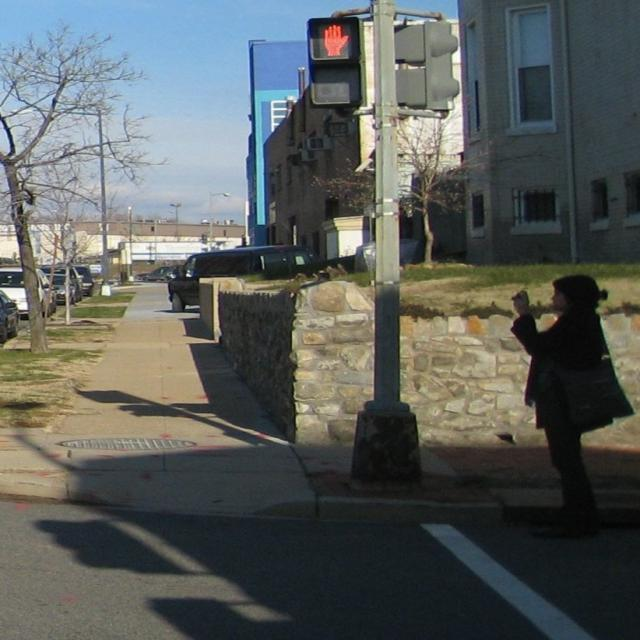traffic light: (304, 13, 367, 107)
